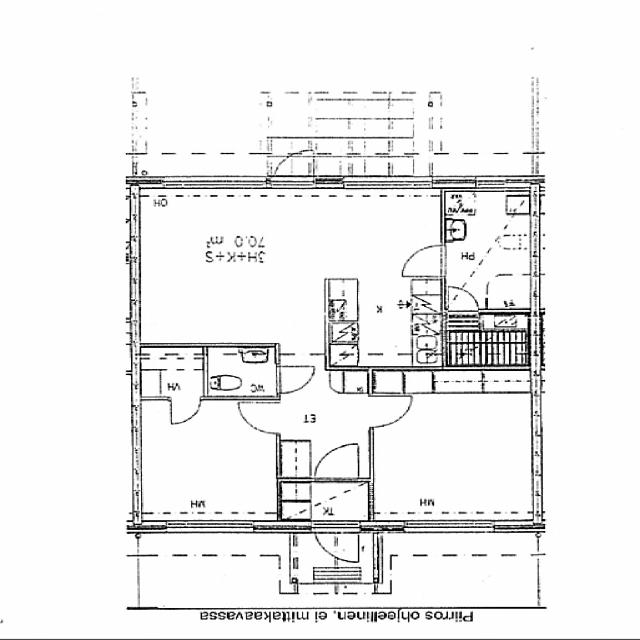door: (314, 520, 359, 568), (274, 146, 314, 189), (314, 444, 358, 482), (369, 397, 414, 428), (237, 403, 281, 434), (402, 246, 446, 276), (276, 367, 314, 393), (449, 286, 479, 314), (171, 398, 201, 424)
